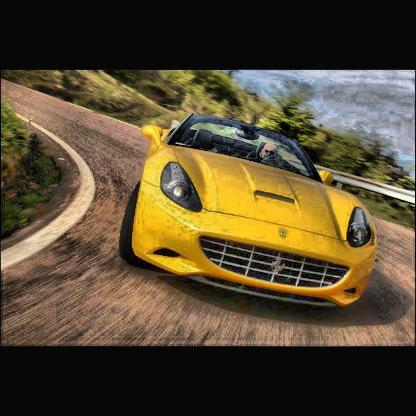Ferrari California Convertible 2012: (122, 112, 381, 311)
